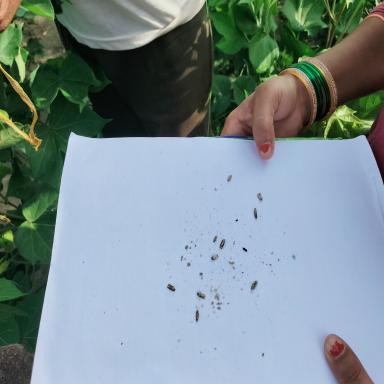pbw: (219, 232, 229, 250), (194, 304, 201, 322), (166, 283, 176, 292), (250, 280, 258, 291), (197, 291, 206, 299), (257, 192, 264, 201), (254, 206, 258, 220), (227, 174, 232, 184), (213, 234, 219, 242), (212, 254, 219, 260), (229, 260, 234, 265)
